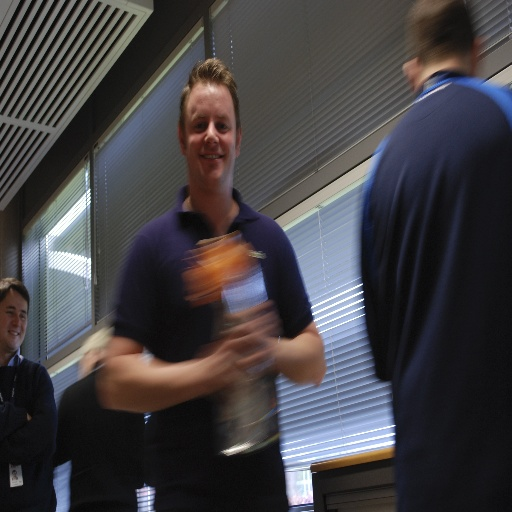hand: (214, 298, 271, 392), (219, 314, 277, 380), (26, 410, 33, 422)
